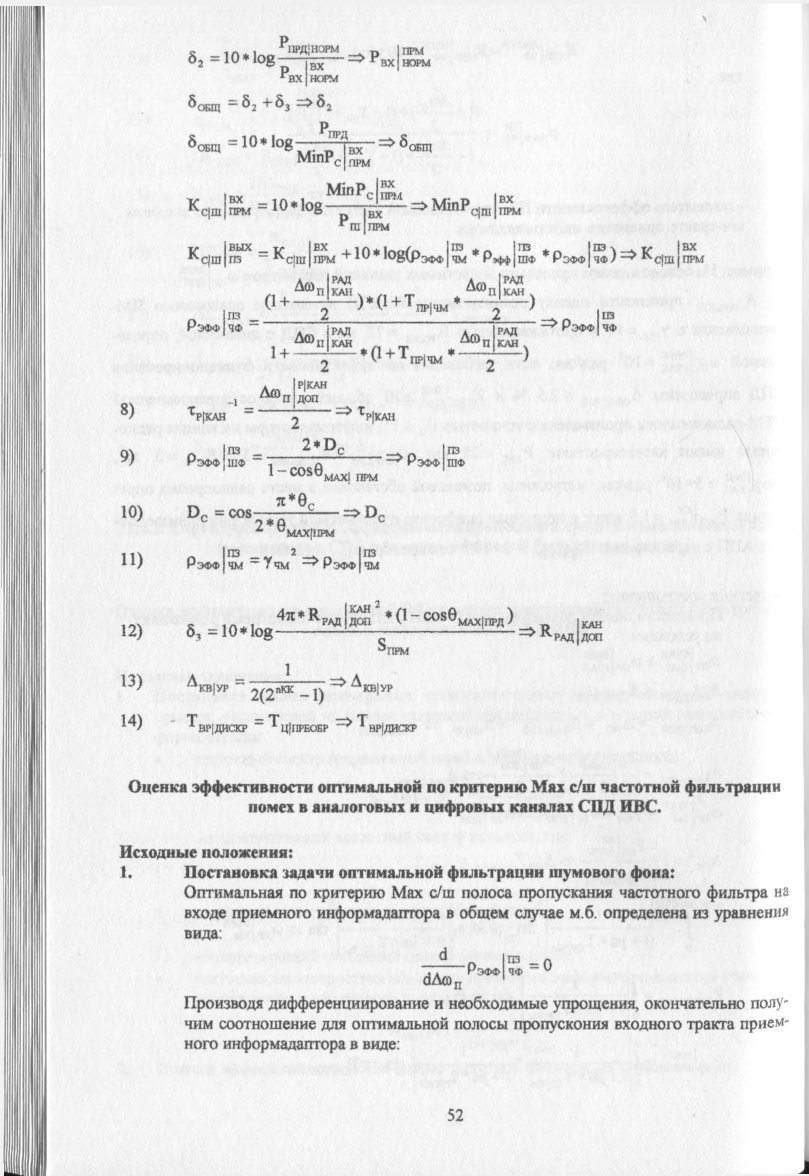D.с: (183, 500, 210, 527), (323, 434, 347, 458)
K.с.ш.вых.пз: (185, 239, 254, 265)
K.сш.вх.прм: (185, 190, 251, 218), (272, 238, 336, 265)
P.вх.вх.норм: (282, 61, 344, 89)
P.прд: (311, 117, 352, 139)
P.прд.норм: (277, 28, 340, 55)
P.с.вх.прм: (323, 147, 376, 172), (356, 177, 405, 201)
P.шф.вх.прм: (336, 207, 393, 231)
R.р.кан.доп: (306, 588, 373, 630)
S.прм: (373, 636, 415, 657)
T.вр.дискр: (183, 706, 250, 737)
T.пр.чм: (395, 341, 444, 369), (406, 290, 451, 315)
T.ц.преобр: (266, 711, 331, 734)
group: (179, 275, 535, 375), (184, 584, 519, 660), (176, 234, 615, 270), (169, 9, 362, 89), (180, 178, 408, 231), (183, 119, 392, 174), (182, 431, 389, 482), (175, 483, 346, 543), (182, 380, 337, 429), (177, 661, 337, 703), (175, 707, 344, 744), (174, 540, 298, 576), (174, 89, 302, 122)
n.кк: (273, 685, 297, 695)
Δ.кв.ур: (185, 669, 231, 697)
Δω.п.р.кан: (465, 273, 526, 300), (292, 274, 352, 297), (457, 326, 519, 348), (291, 329, 354, 348)
Δω.п.р.кан.доп: (257, 378, 330, 407)
γ.чм: (262, 549, 290, 574)
δ.2: (181, 42, 209, 75), (240, 90, 261, 116)
δ.3: (181, 618, 203, 647), (272, 94, 295, 118)
δ.общ: (183, 91, 223, 118), (182, 130, 223, 156)
θ.max.прд: (450, 599, 506, 630)
θ.max.прм: (312, 461, 377, 482), (276, 518, 334, 541)
θ.с: (296, 492, 318, 510)
ρ.эфф.пз.чм: (414, 235, 468, 269)
ρ.эфф.пз.чф: (181, 306, 244, 342), (184, 542, 247, 575), (551, 239, 608, 271)
ρ.эфф.пз.шф: (185, 440, 248, 473), (483, 236, 535, 266)
τ.р.кан: (185, 401, 228, 426)
